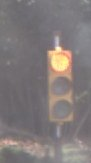Red: (46, 42, 86, 139)
